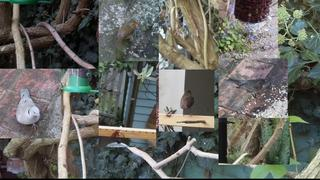blackbird: (226, 78, 268, 101)
collared dove: (16, 89, 41, 131)
robin: (115, 20, 139, 46), (180, 90, 194, 117)
